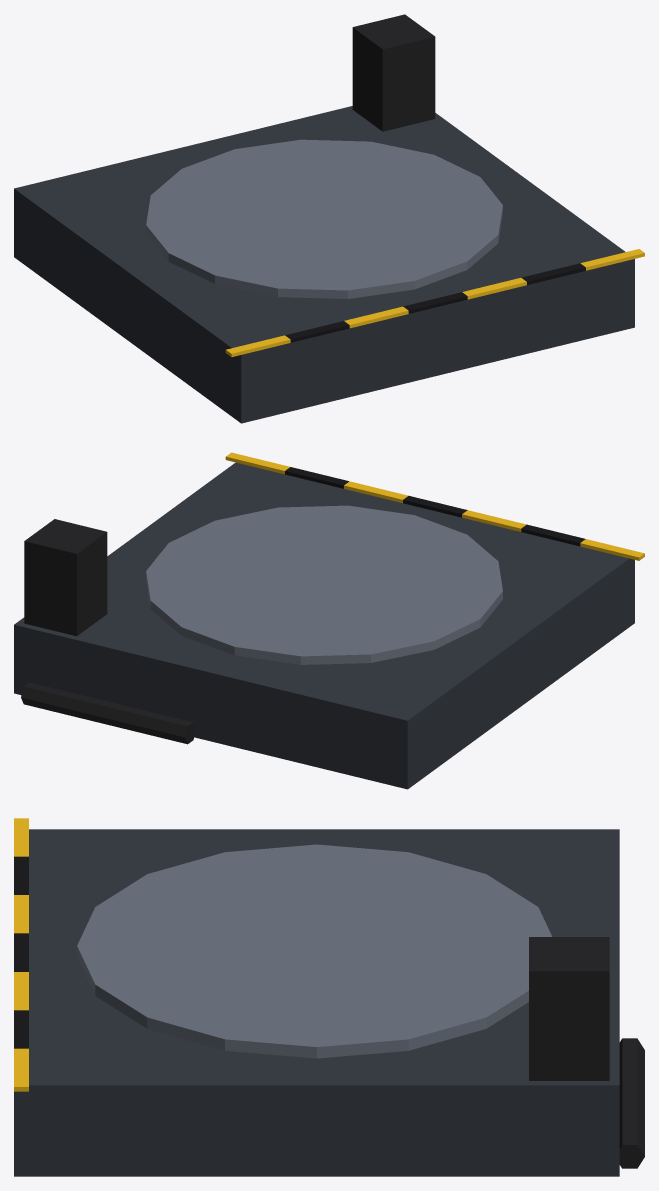
File: machine_charger.glb
3 views of the same model, one above another, from view 1: azimuth 30°, elevation 25°; view 2: azimuth 150°, elevation 25°; view 3: azimuth 270°, elevation 25° (orthographic). The views are drawn at different scales.
Visible parts, largest first — view 1: machine_charger; view 2: machine_charger; view 3: machine_charger.
Part boxes in pixels (x1,y1,x2,y2): machine_charger: (14, 14, 644, 423); machine_charger: (14, 452, 644, 789); machine_charger: (14, 818, 644, 1176).
Bounding box in the file's own units: 1.26 × 0.446 × 1.25.
1 material, 1 textured.
